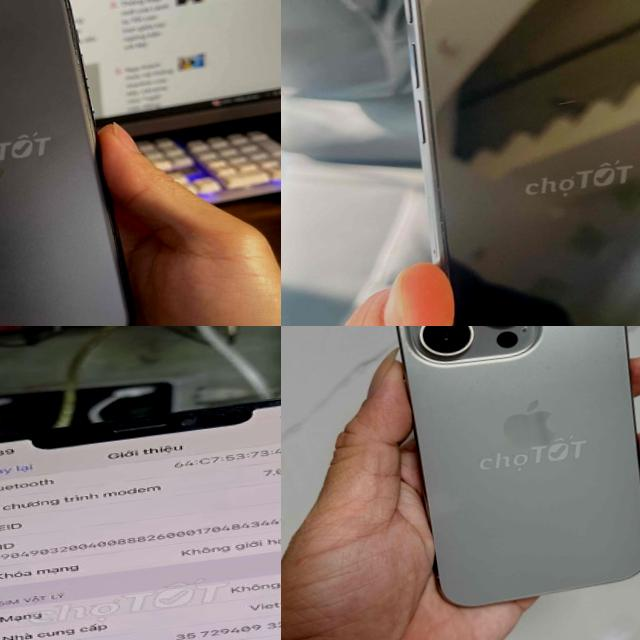gen_11: (0, 0, 150, 326)
gen_15: (373, 326, 640, 627)
gen_16: (406, 0, 640, 326)
gen_x_xs: (0, 379, 281, 640)
scratch: (60, 0, 97, 127), (544, 74, 605, 134)
